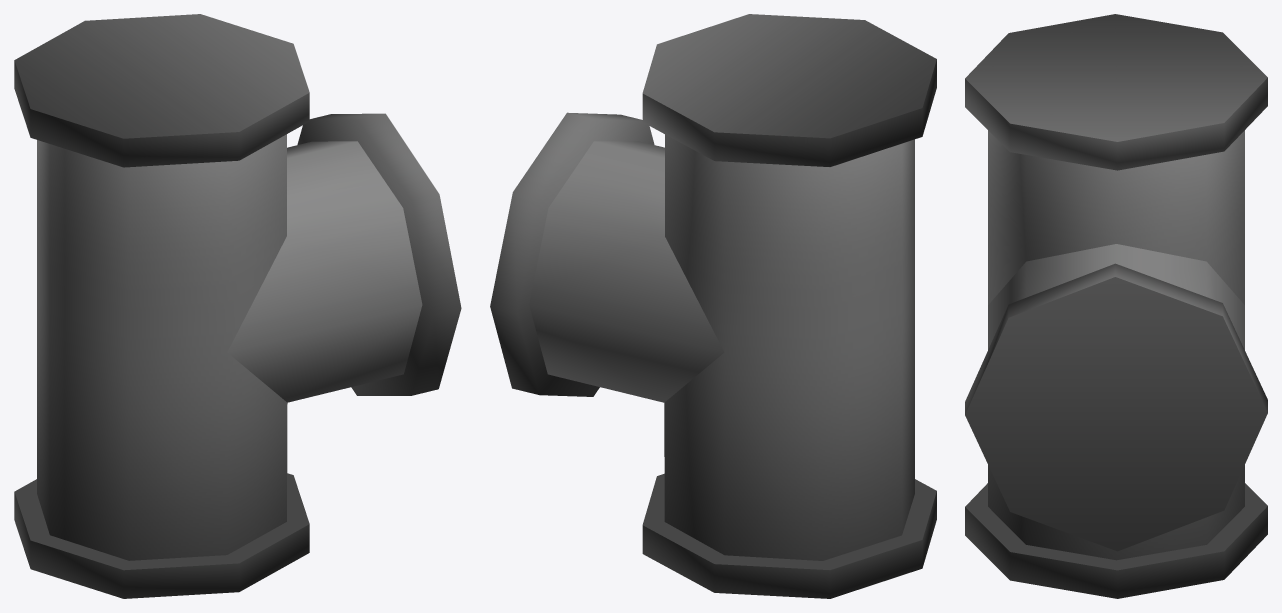
The model's file is Pipe_Tshape.glb.
3 renders of one model, left to right at view 1: azimuth 30°, elevation 25°; view 2: azimuth 150°, elevation 25°; view 3: azimuth 270°, elevation 25°, orthographic.
Visible parts, largest first — view 1: Pipe_Tshape; view 2: Pipe_Tshape; view 3: Pipe_Tshape.
Part boxes in pixels (<box>): Pipe_Tshape: <box>14,14,461,598</box>; Pipe_Tshape: <box>490,14,936,598</box>; Pipe_Tshape: <box>965,14,1267,598</box>.
Size of the model in its own units: 0.4039 by 0.5 by 0.3004.
1 material, 1 textured.
